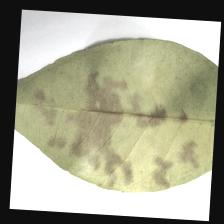canker: (47, 67, 203, 181)
